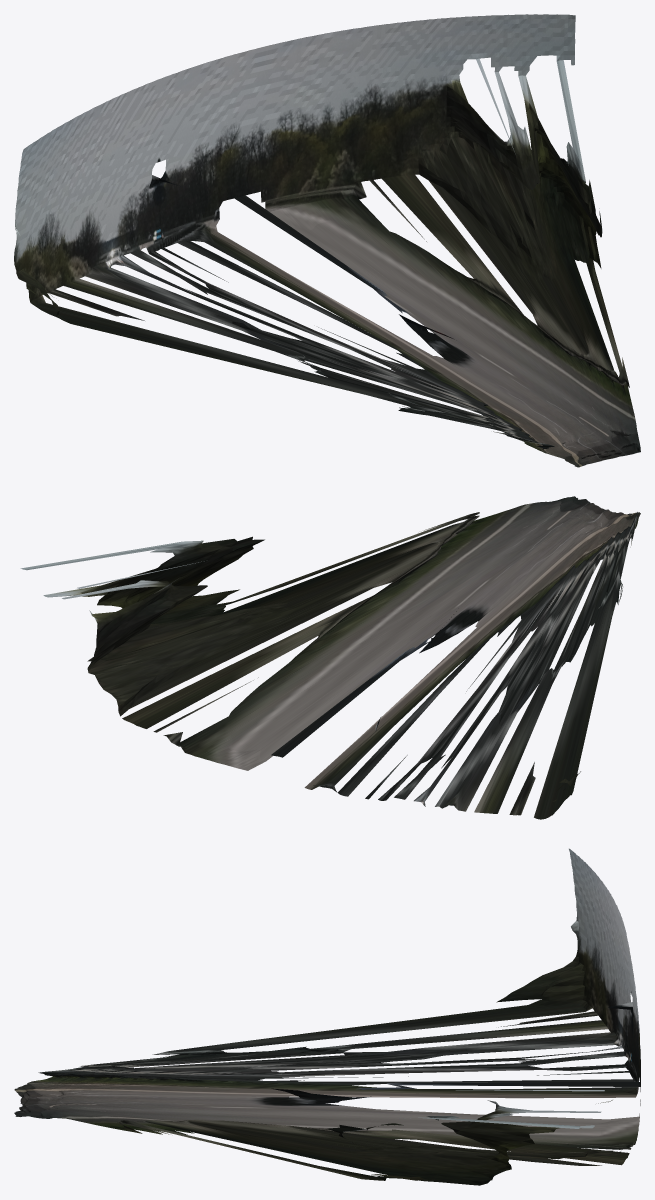
3 views of the same model, one above another, from view 1: azimuth 30°, elevation 25°; view 2: azimuth 150°, elevation 25°; view 3: azimuth 270°, elevation 25° (orthographic). The views are drawn at different scales.
Visible parts, largest first — view 1: defaultobject; view 2: defaultobject; view 3: defaultobject.
Boxes of the visible parts, left/top/right/bottom form: defaultobject: left=14, top=14, right=640, bottom=467; defaultobject: left=20, top=496, right=640, bottom=819; defaultobject: left=14, top=848, right=640, bottom=1185.
Bounding box in the file's own units: 41.05 × 12.58 × 44.62.
Materials: 1 (1 with a texture image).
